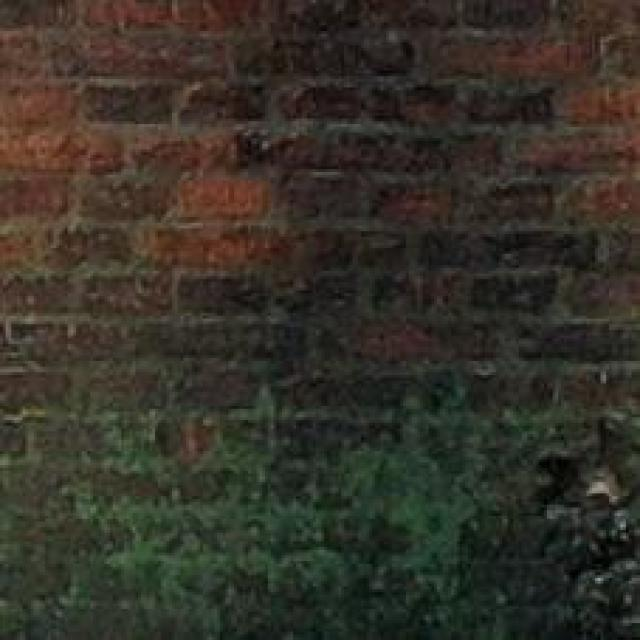Crack: (516, 431, 640, 640)
